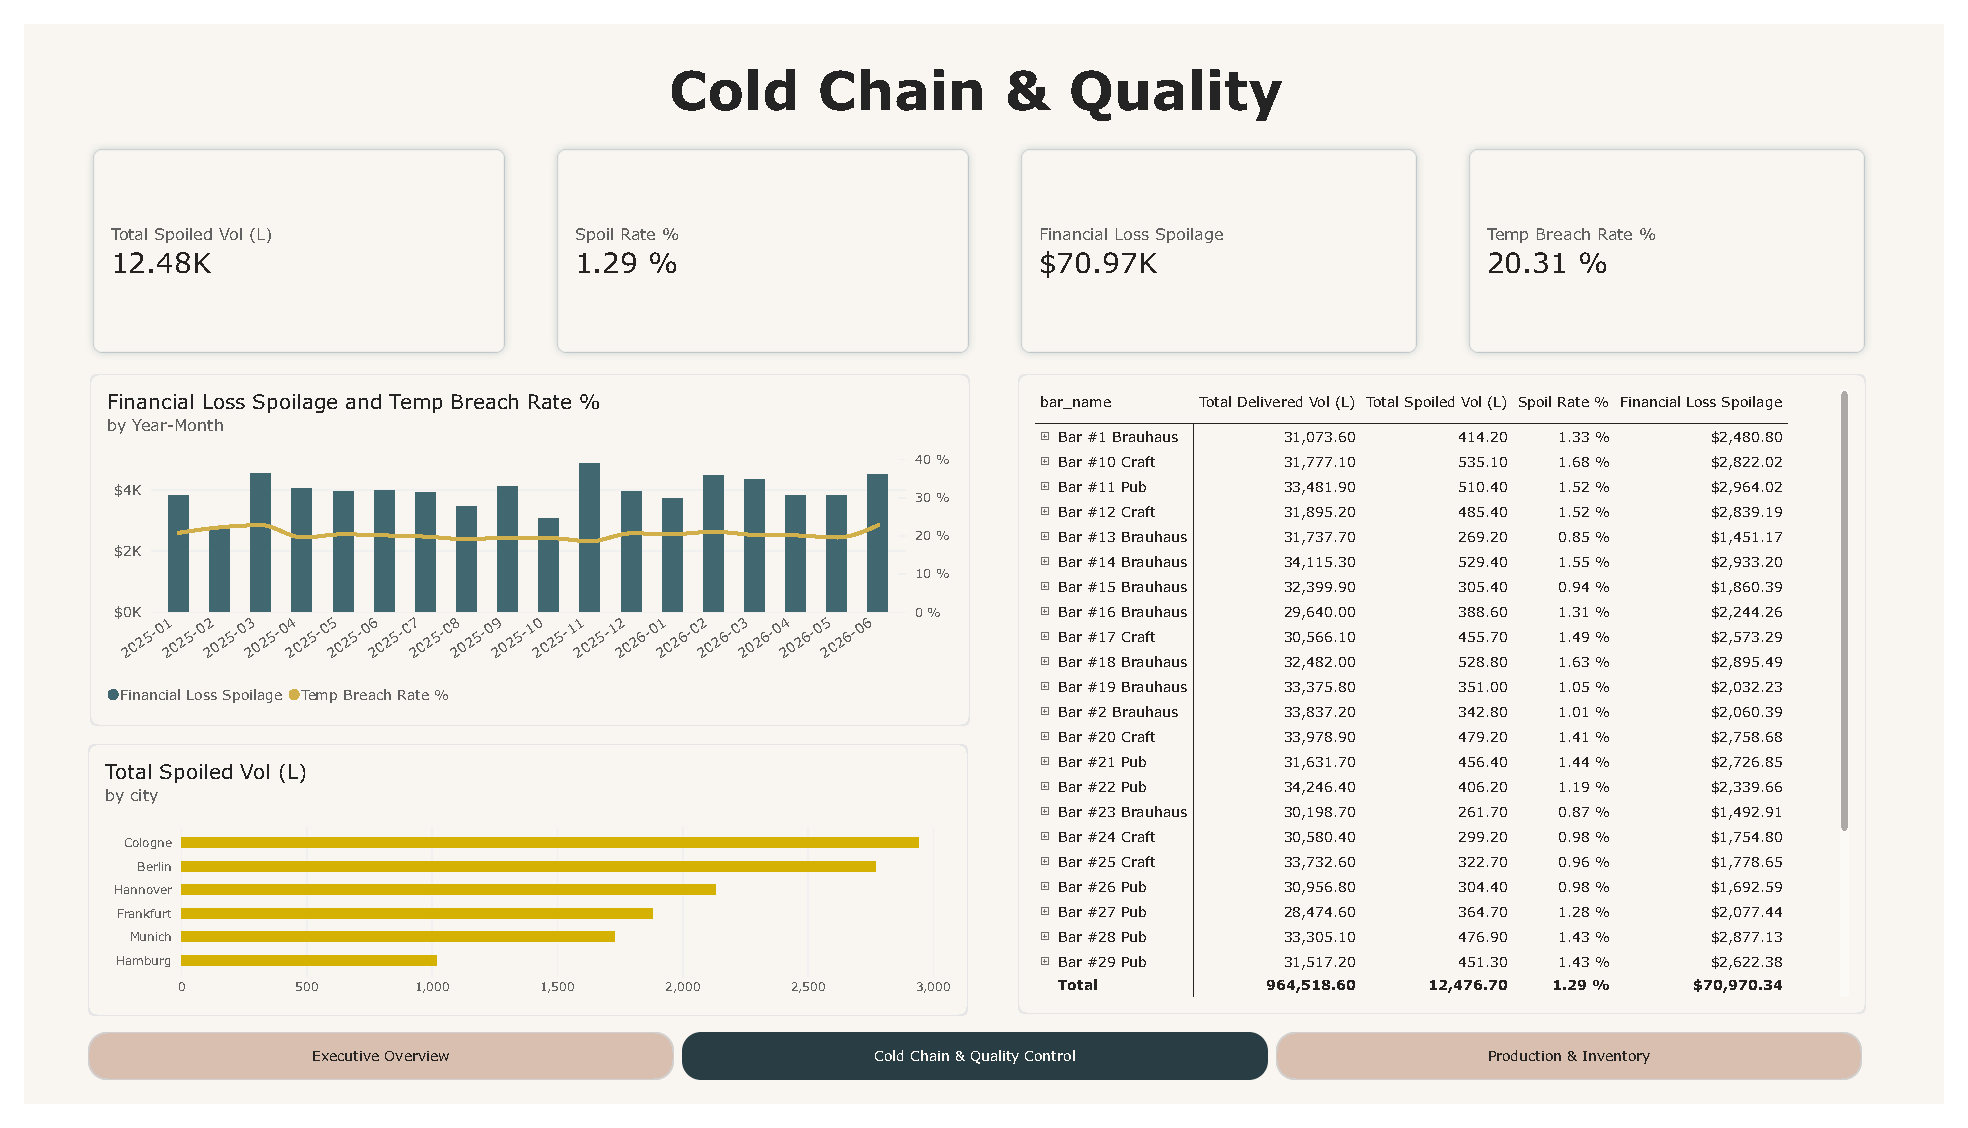

The dashboard page shown, as its layout file describes it:
{"tool":"powerbi","page":{"name":"Cold Chain & Quality Control","canvas":[1920,1080],"ordinal":1},"visuals":[{"type":"textbox","box":[480,32,944,80],"z":0},{"type":"cardVisual","fields":{"Data":["_Measures.Total Spoiled Vol (L)"]},"box":[58.6,115.2,432,224],"z":1000},{"type":"cardVisual","fields":{"Data":["_Measures.Spoil Rate %"]},"box":[522.6,115.2,432,224],"z":2000},{"type":"cardVisual","fields":{"Data":["_Measures.Financial Loss Spoilage"]},"box":[986.6,115.2,416,224],"z":3000},{"type":"cardVisual","fields":{"Data":["_Measures.Temp Breach Rate %"]},"box":[1434.6,115.2,416,224],"z":4000},{"type":"lineStackedColumnComboChart","fields":{"Category":["dim_date.Year-Month"],"Y":["_Measures.Financial Loss Spoilage"],"Y2":["_Measures.Temp Breach Rate %"]},"box":[66.5,350,880,352],"z":5000},{"type":"barChart","fields":{"Category":["dim_bars.city"],"Y":["_Measures.Total Spoiled Vol (L)"]},"box":[64,720,880,272],"z":6000},{"type":"pivotTable","fields":{"Rows":["dim_bars.bar_name","dim_beers.beer_name"],"Values":["_Measures.Total Delivered Vol (L)","_Measures.Total Spoiled Vol (L)","_Measures.Spoil Rate %","_Measures.Financial Loss Spoilage"]},"box":[994.5,350,848,640],"z":7000},{"type":"pageNavigator","box":[64,1008,1776,48],"z":8000}]}

Visuals, with their boxes in screenshot pixels (x1, y1, x2, y2), scaled from the page's 1920x1080 canvas onto the 1968x1128 screenshot:
textbox: box(492, 33, 1460, 117)
cardVisual - _Measures.Total Spoiled Vol (L): box(60, 120, 503, 354)
cardVisual - _Measures.Spoil Rate %: box(536, 120, 978, 354)
cardVisual - _Measures.Financial Loss Spoilage: box(1011, 120, 1438, 354)
cardVisual - _Measures.Temp Breach Rate %: box(1470, 120, 1897, 354)
lineStackedColumnComboChart - dim_date.Year-Month x _Measures.Financial Loss Spoilage: box(68, 366, 970, 733)
barChart - dim_bars.city x _Measures.Total Spoiled Vol (L): box(66, 752, 968, 1036)
pivotTable - dim_bars.bar_name x dim_beers.beer_name: box(1019, 366, 1889, 1034)
pageNavigator: box(66, 1053, 1886, 1103)
